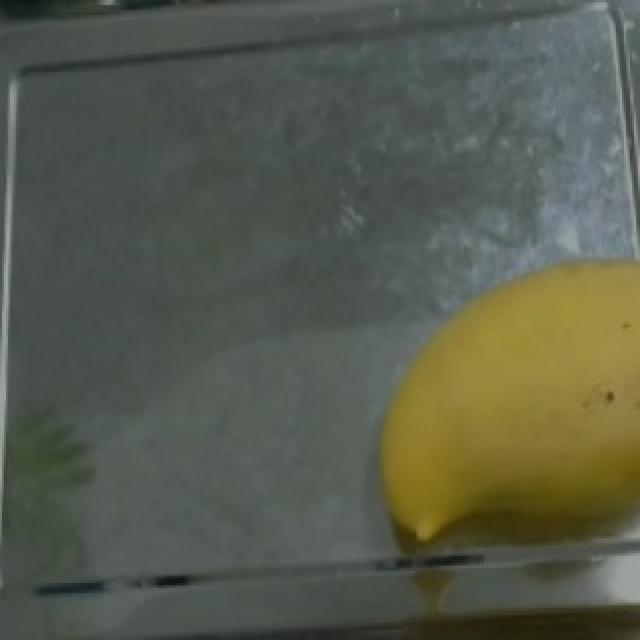fruit: (350, 233, 640, 576)
